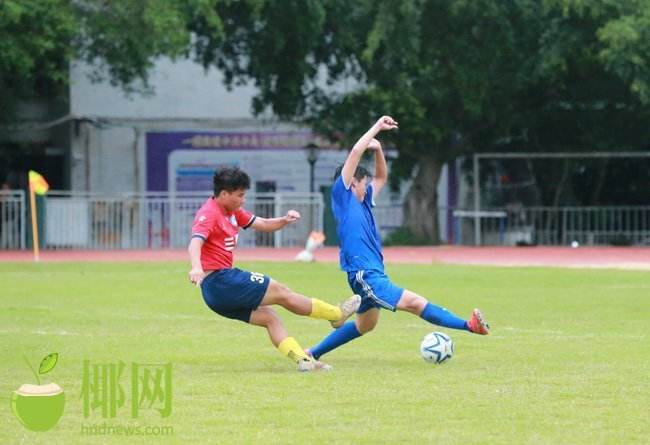football: (421, 331, 456, 365)
